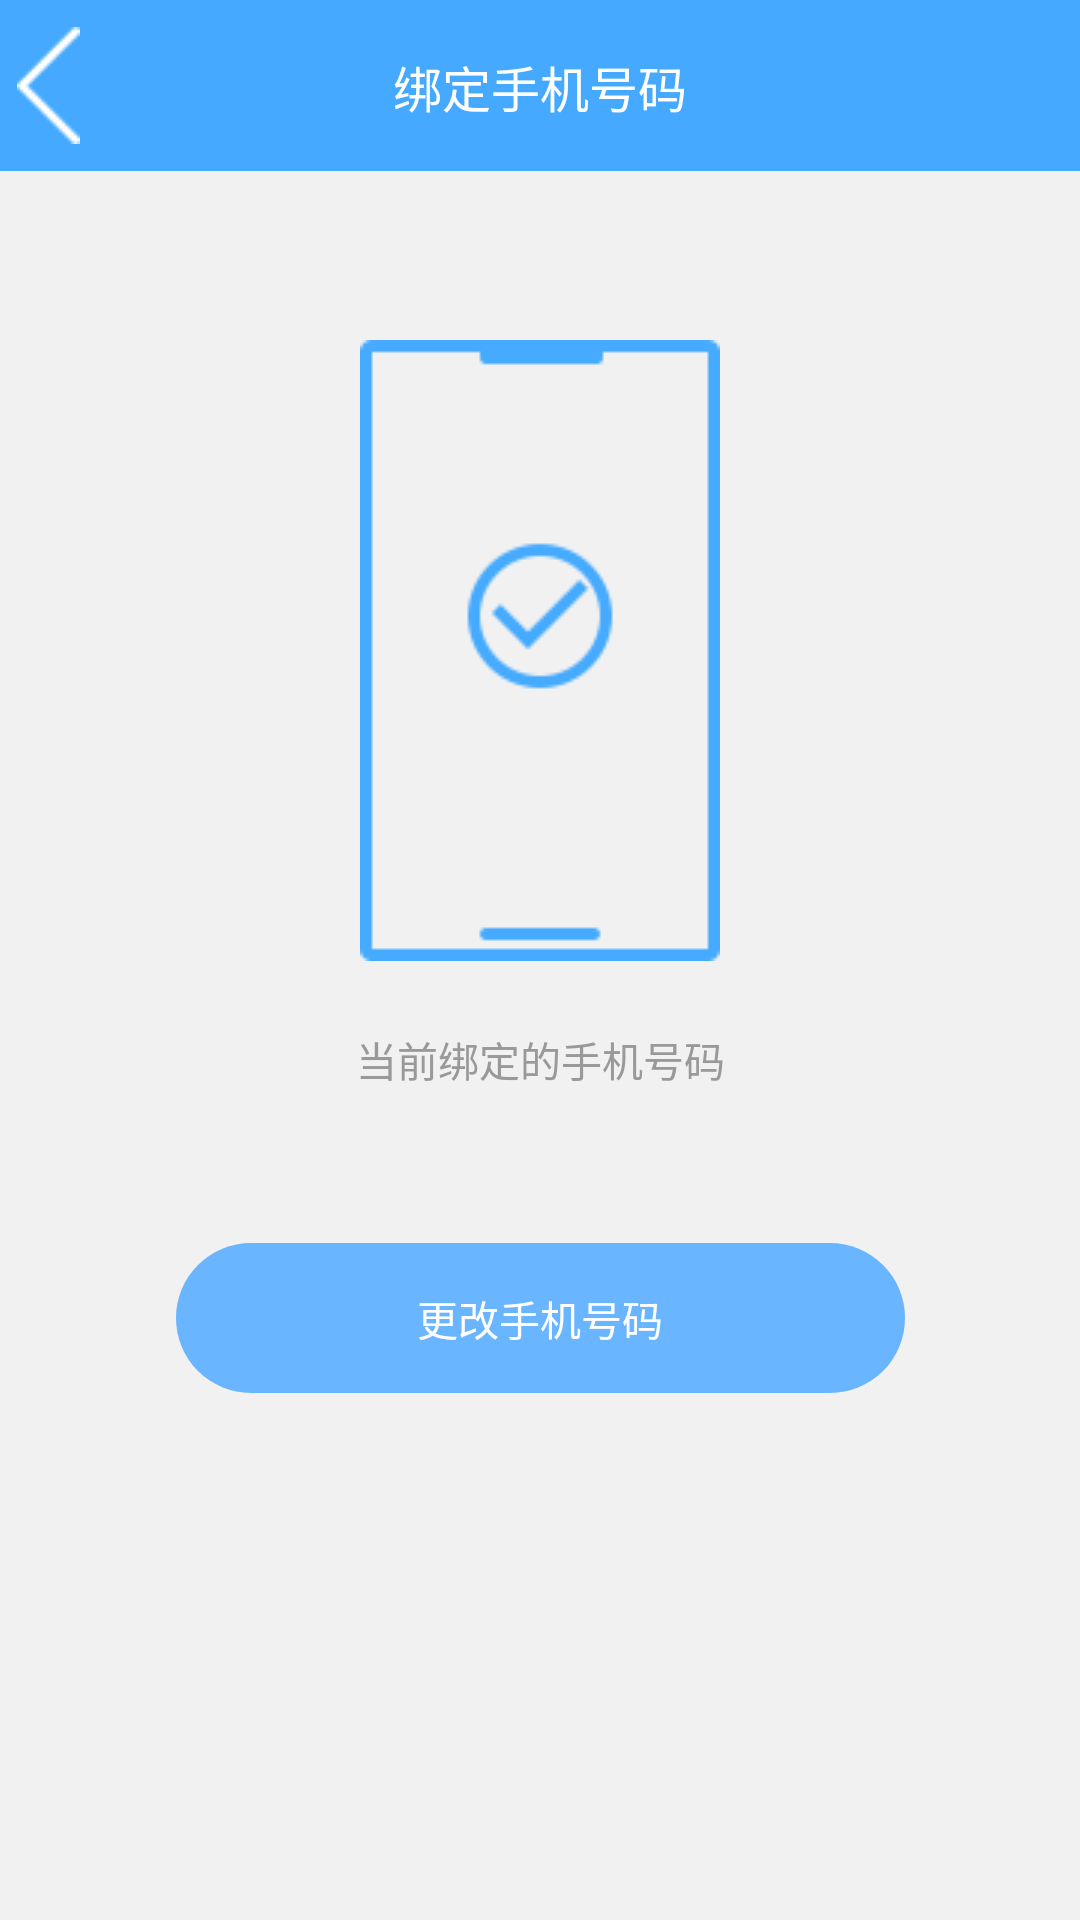

Icon bounding boxes for this 1080px x 1920px phone screenshot, format (x1, y1, x2, y2):
back: (17, 27, 80, 144)
